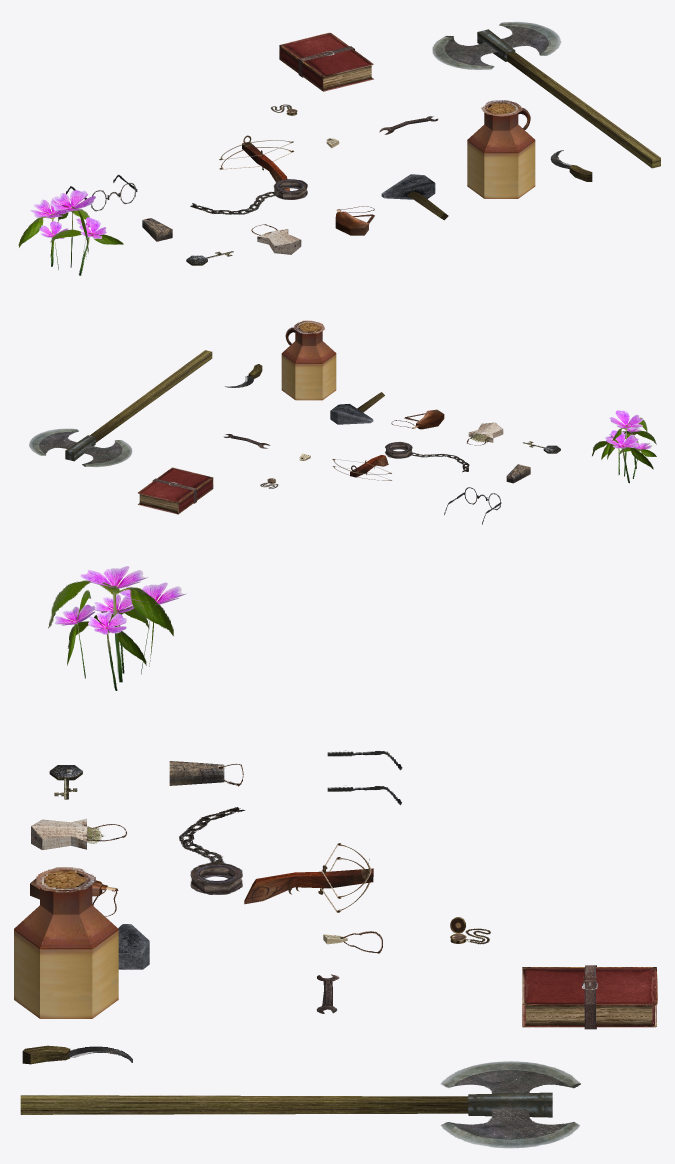
File: items.glb
The picture shows the model from 3 angles, top to bottom: view 1: azimuth 30°, elevation 25°; view 2: azimuth 150°, elevation 25°; view 3: azimuth 270°, elevation 25°; orthographic projection. The views are drawn at different scales.
Parts seen in each view (by area): view 1: greataxe, alcohol, tome, purgebloom, hammer, manacle, crossbow, dried_herbs, purified_water, whetstone, herbalist_knife; view 2: greataxe, alcohol, tome, purgebloom, hammer, manacle, crossbow, dried_herbs, purified_water; view 3: greataxe, alcohol, tome, purgebloom, crossbow, manacle, dried_herbs, whetstone, hammer, herbalist_knife.
Part boxes in pixels (box(x1,y1,x2,y2)): greataxe: box(432, 21, 660, 168); alcohol: box(467, 100, 535, 198); tome: box(279, 32, 373, 91); purgebloom: box(18, 190, 123, 275); hammer: box(381, 174, 448, 220); manacle: box(190, 179, 307, 214); crossbow: box(219, 135, 294, 190); dried_herbs: box(251, 224, 301, 254); purified_water: box(335, 206, 374, 235); whetstone: box(142, 218, 172, 241); herbalist_knife: box(550, 150, 592, 181); greataxe: box(29, 350, 212, 467); alcohol: box(281, 320, 336, 400); tome: box(138, 467, 213, 514); purgebloom: box(592, 410, 656, 483); hammer: box(330, 392, 384, 424); manacle: box(385, 442, 469, 472); crossbow: box(332, 455, 391, 480); dried_herbs: box(467, 422, 503, 445); purified_water: box(391, 409, 444, 429); greataxe: box(20, 1061, 580, 1148); alcohol: box(14, 867, 118, 1018); tome: box(522, 965, 657, 1029); purgebloom: box(48, 566, 186, 690); crossbow: box(244, 843, 373, 912); manacle: box(179, 807, 245, 894); dried_herbs: box(31, 818, 126, 850); whetstone: box(169, 761, 243, 786); hammer: box(118, 924, 149, 969); herbalist_knife: box(22, 1045, 132, 1064).
Bounding box in the file's own units: 4.47 × 0.6143 × 2.48.
1 material, 1 textured.
